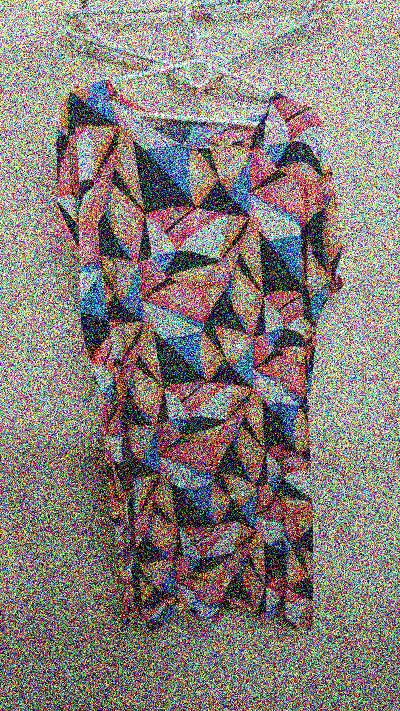Dress: (37, 54, 372, 650)
